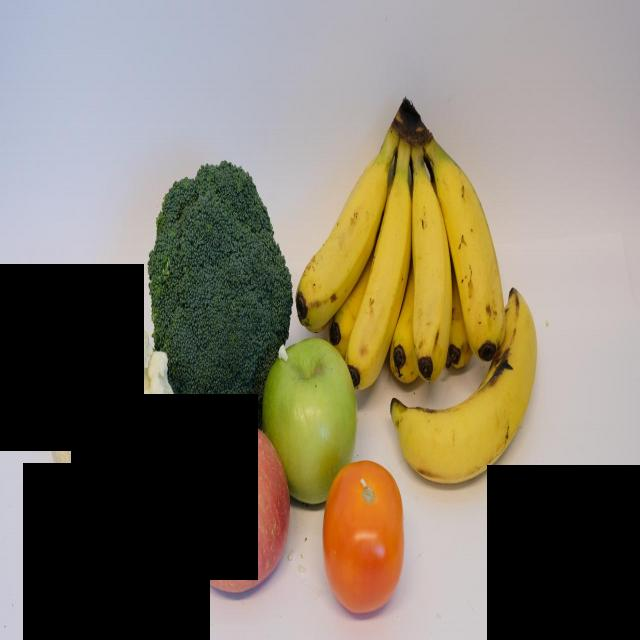apple: (185, 418, 295, 594), (271, 332, 359, 508)
banana: (392, 291, 548, 500), (429, 152, 509, 349), (300, 152, 389, 326), (348, 179, 409, 400), (402, 172, 454, 363)
broccoli: (132, 145, 290, 447)
cauliflower: (47, 289, 190, 556)
tomato: (318, 448, 413, 618)
